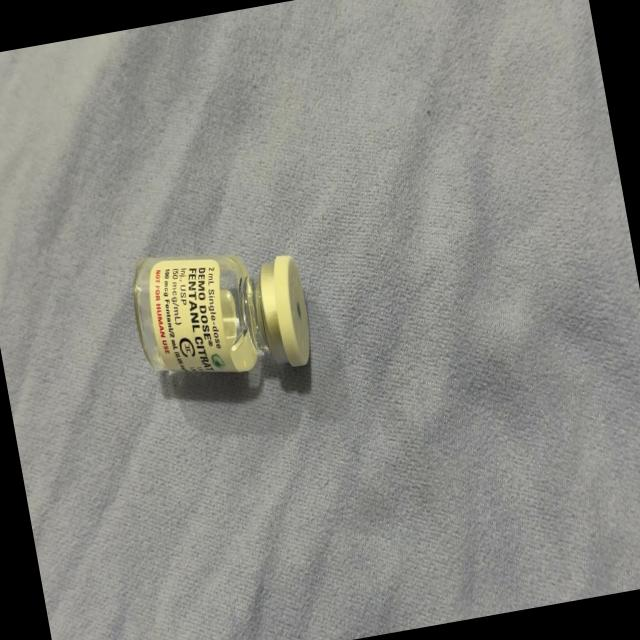fentanl_citrat: (128, 234, 314, 392)
